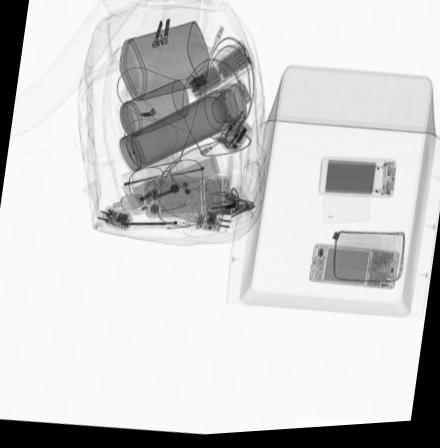Powerbank: (318, 162, 397, 203)
